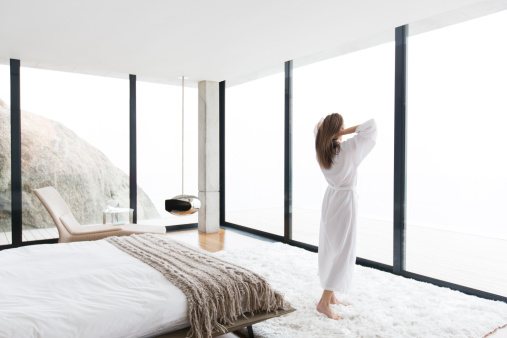em pe: (304, 106, 375, 315)
